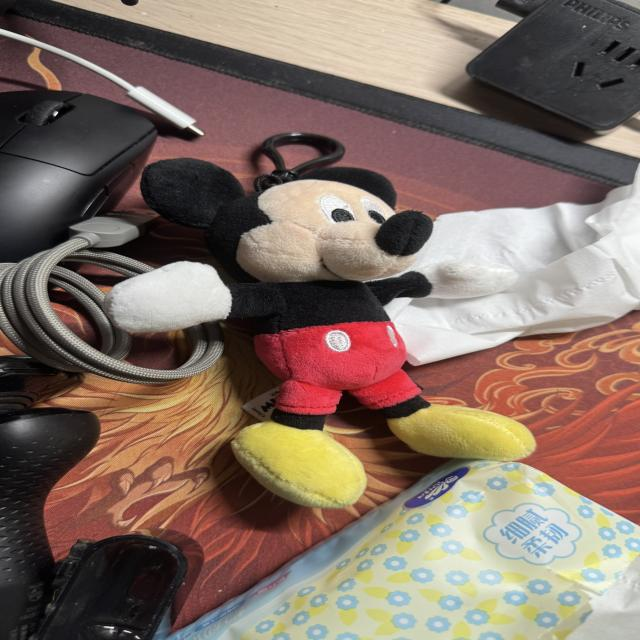mickey: (105, 159, 534, 507)
